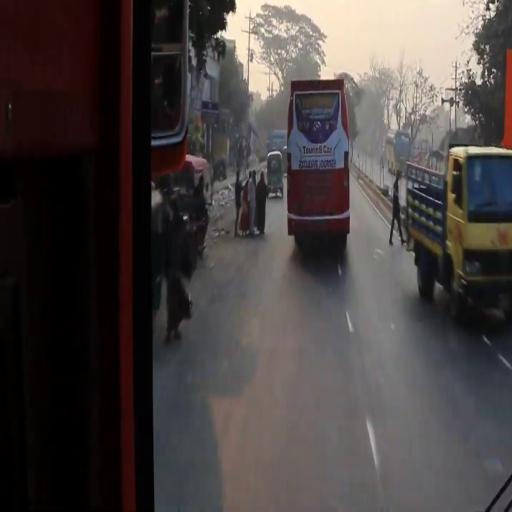auto rickshaw: (175, 154, 216, 265)
bus: (286, 80, 353, 247), (386, 129, 412, 171)
three wheelers (CNG): (267, 153, 284, 199)
truck: (407, 144, 512, 311)
